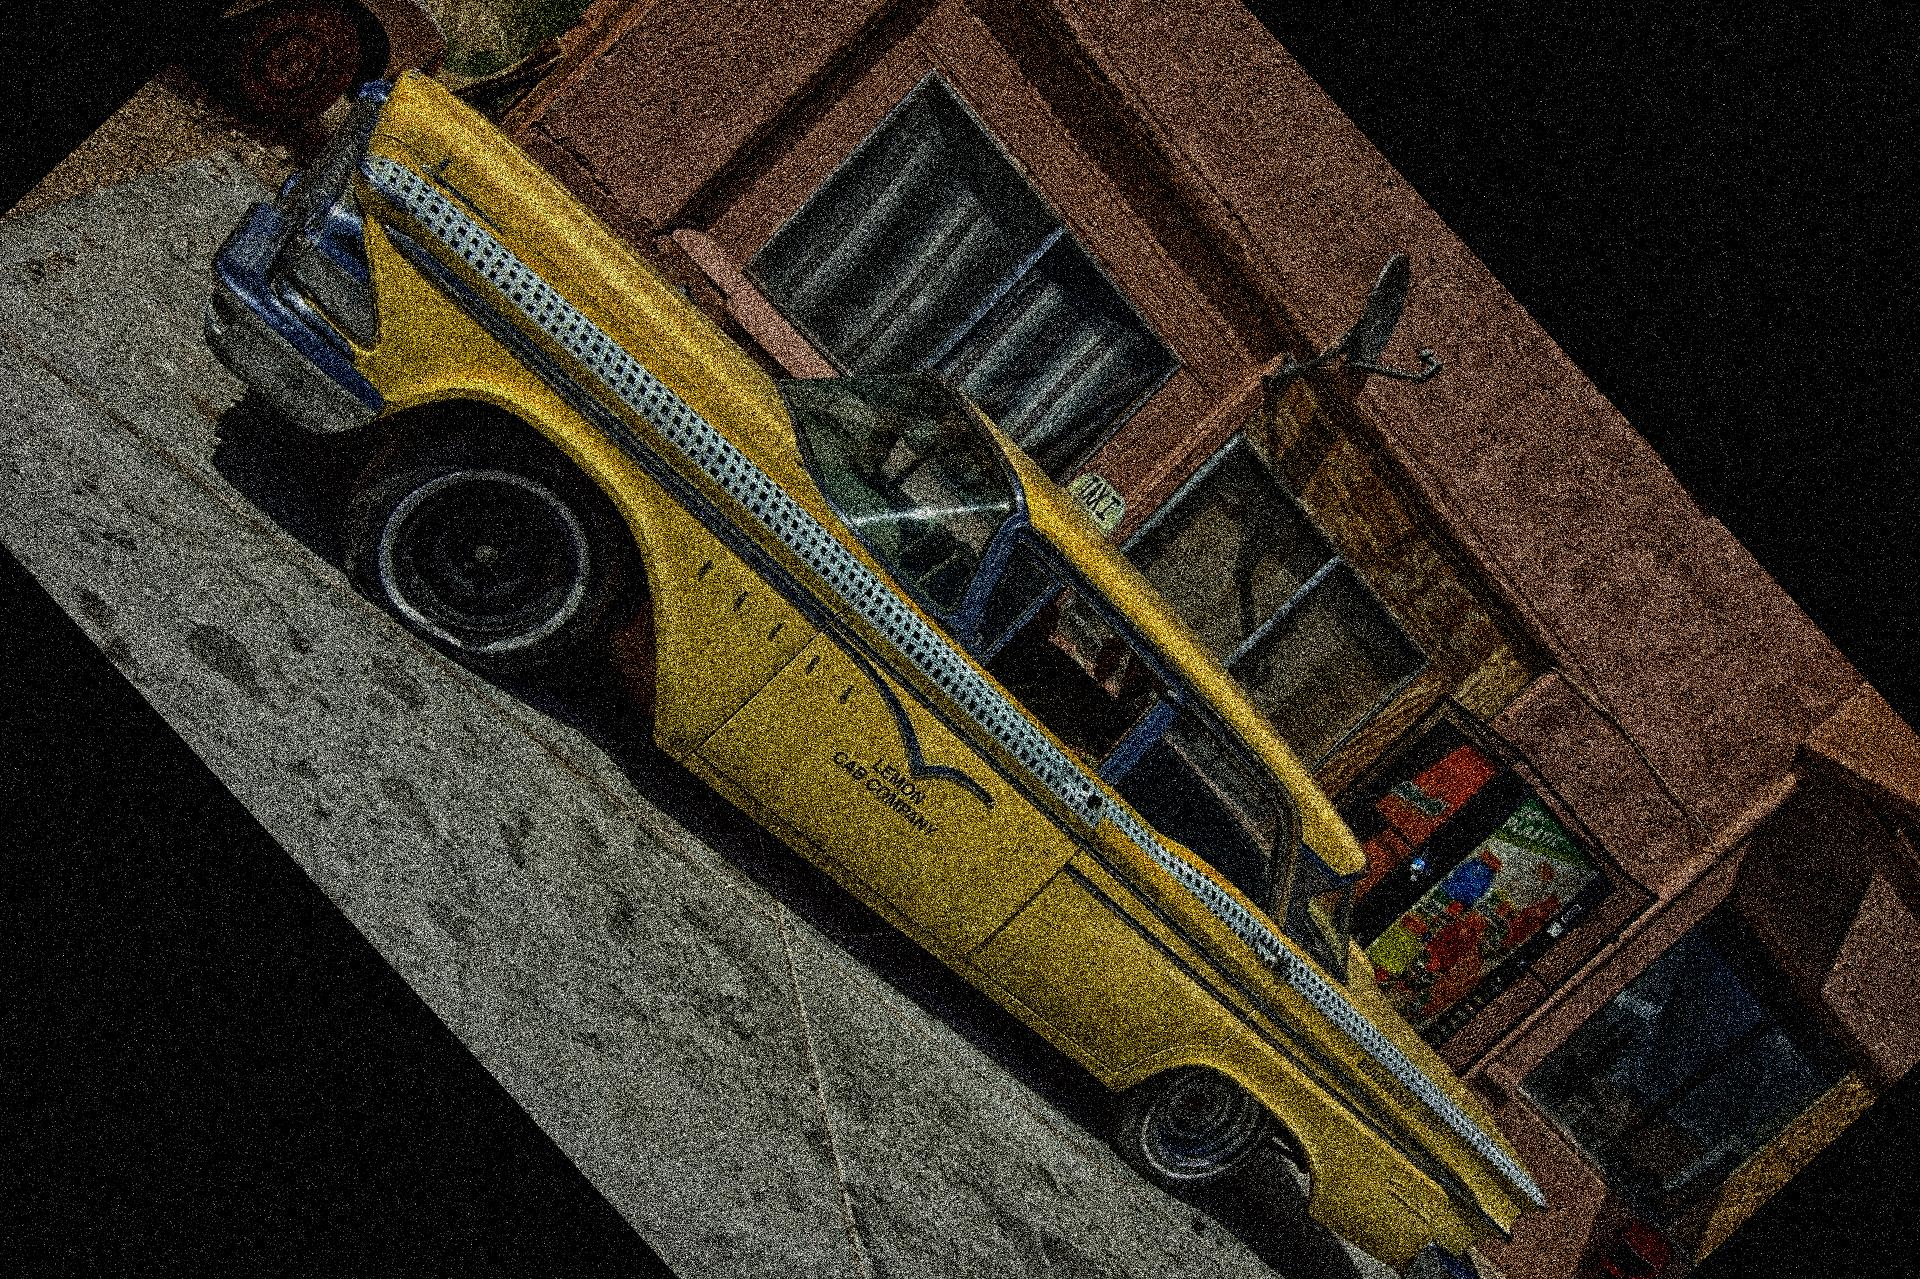taxi: (164, 47, 1570, 1259)
